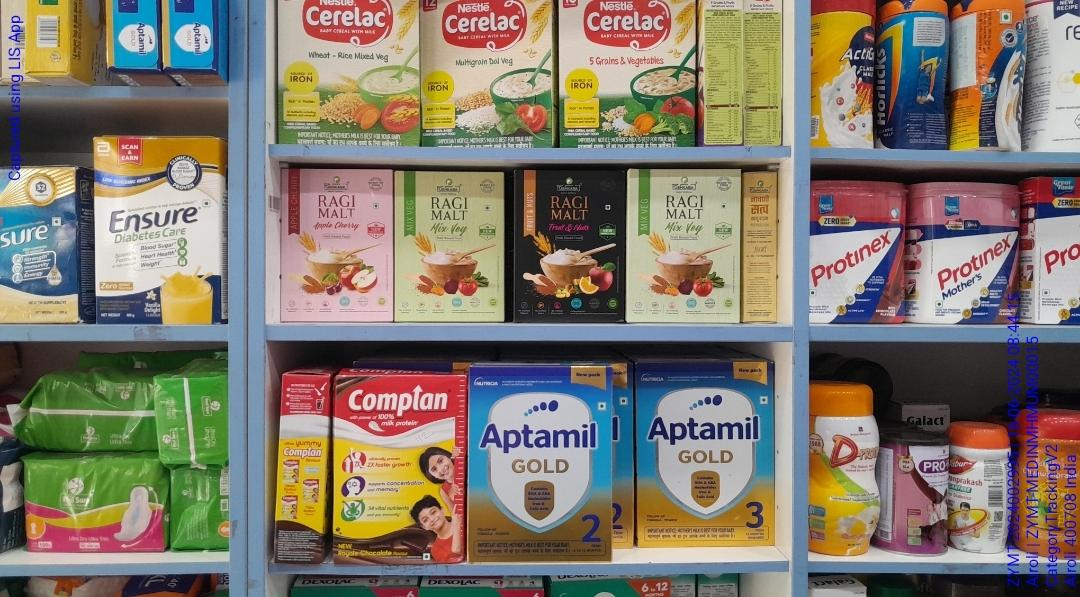PROTINEX_VANILLA_400_G_JAR: (809, 182, 904, 326)
